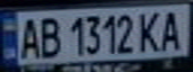1: (63, 12, 84, 56), (100, 11, 121, 54)
2: (115, 10, 139, 54)
3: (81, 11, 103, 55)
A: (157, 7, 187, 52), (15, 15, 42, 60)
B: (36, 14, 63, 58)
K: (136, 8, 163, 53)
